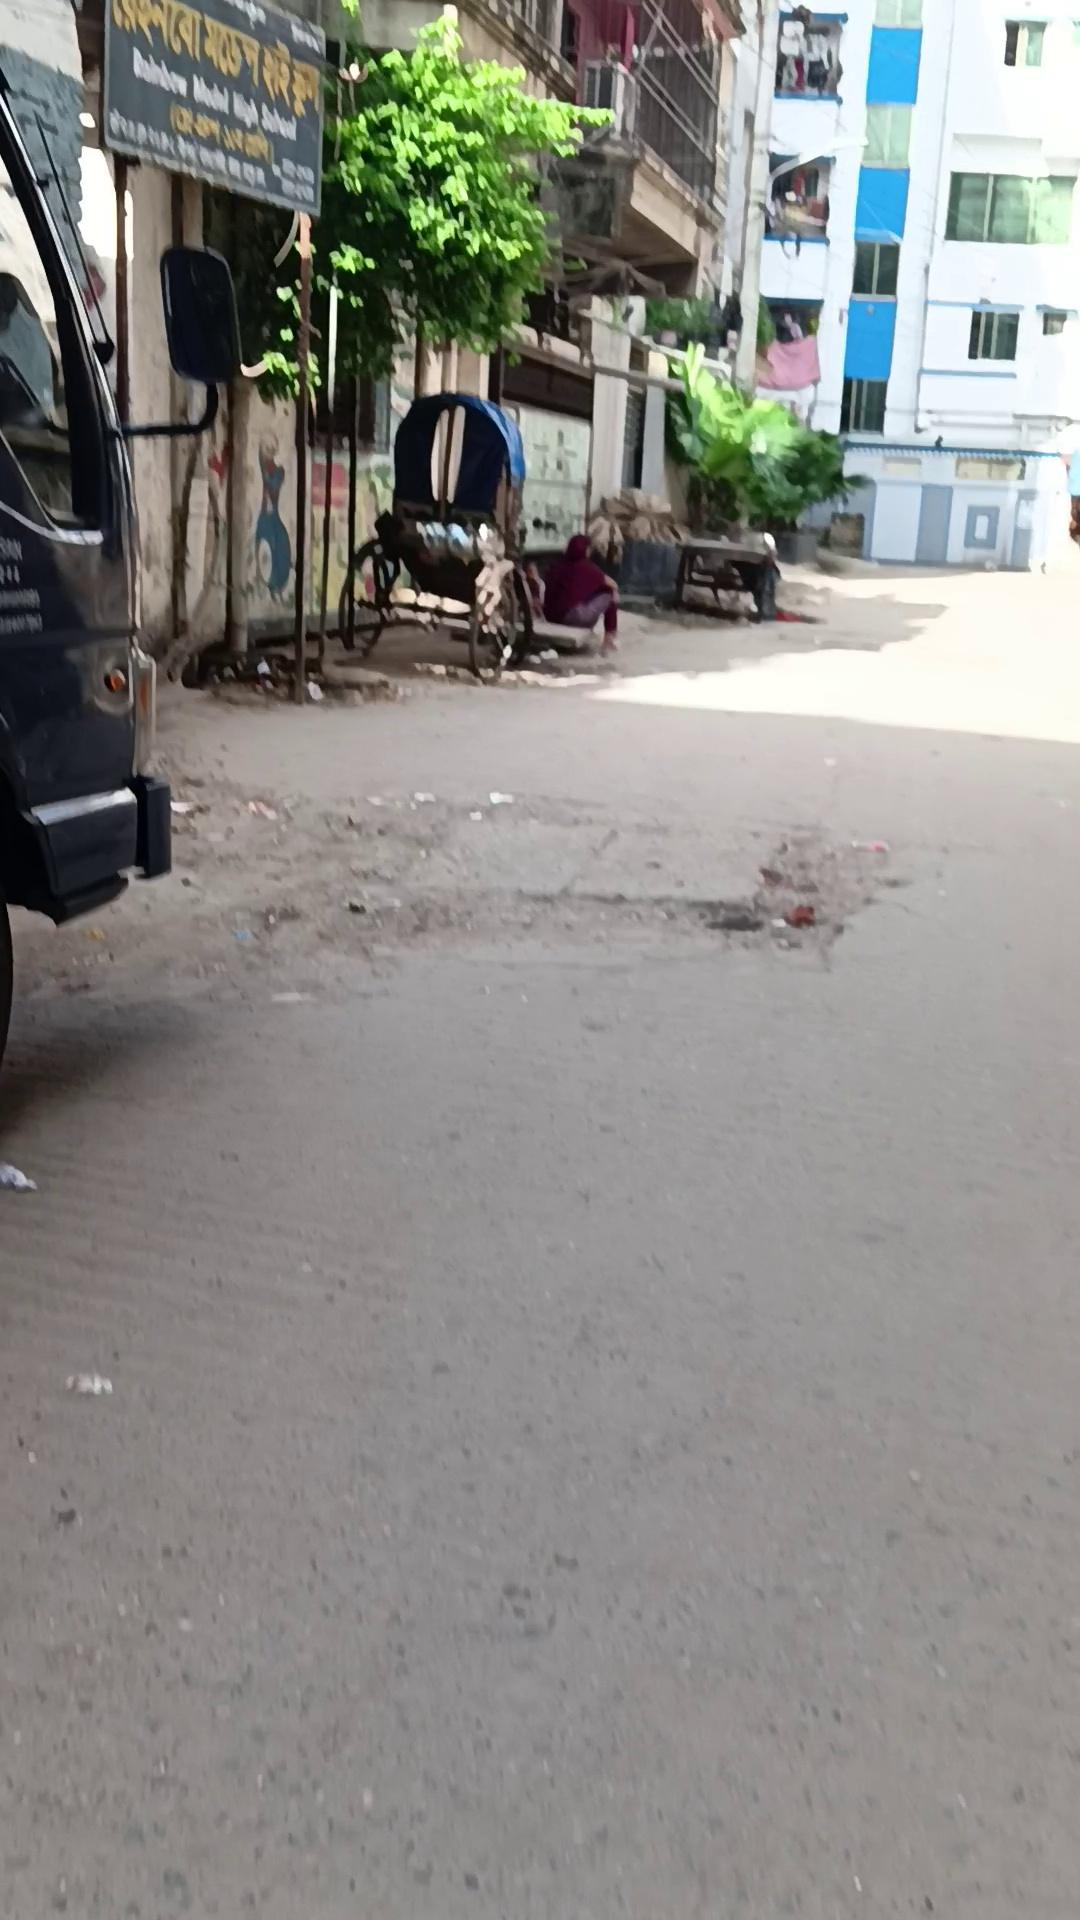Car: (0, 9, 240, 1071)
Muddy road: (541, 533, 620, 655)
Pothole: (335, 389, 608, 683), (671, 538, 778, 621)
